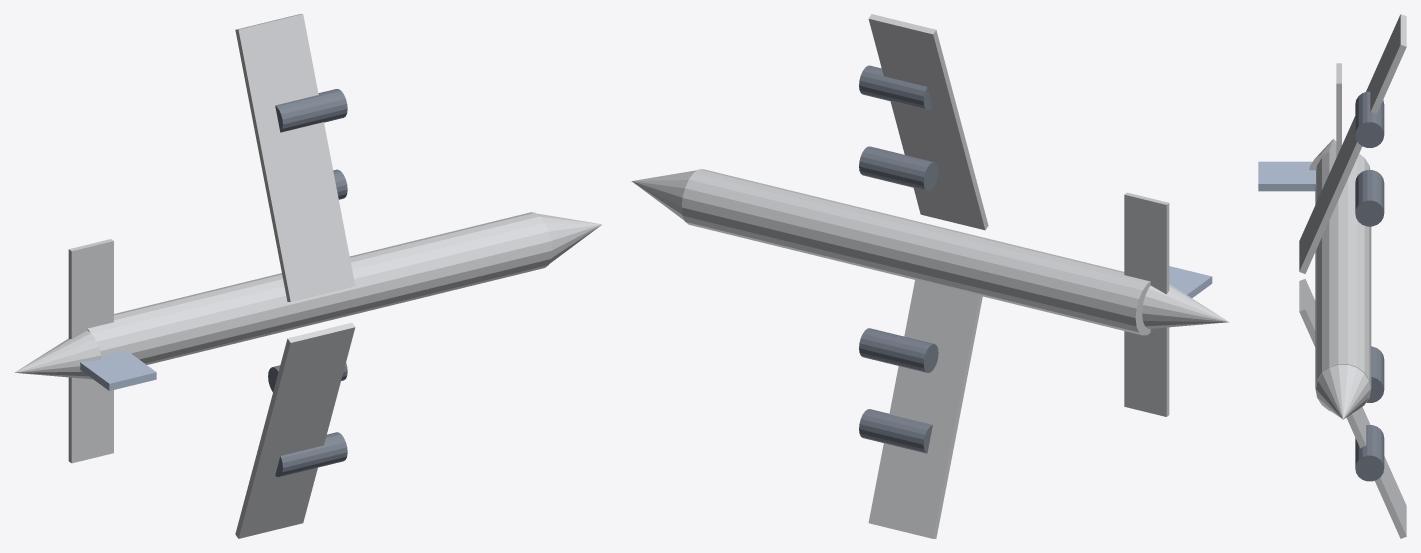
Rendered from quad.glb.
3 renders of one model, left to right at view 1: azimuth 30°, elevation 25°; view 2: azimuth 150°, elevation 25°; view 3: azimuth 270°, elevation 25°, orthographic. The views are drawn at different scales.
Visible parts, largest first — view 1: body, engines, fin; view 2: body, engines, fin; view 3: body, engines, fin.
Part boxes in pixels (x1,y1,x2,y2): body: (15,14,601,538); engines: (268,89,347,476); fin: (80,350,156,390); body: (631,14,1229,538); engines: (859,65,938,453); fin: (1169,266,1212,297); body: (1299,14,1406,538); engines: (1355,91,1384,481); fin: (1258,161,1315,191).
Bounding box in the file's own units: 78.68 × 64.53 × 17.58.
